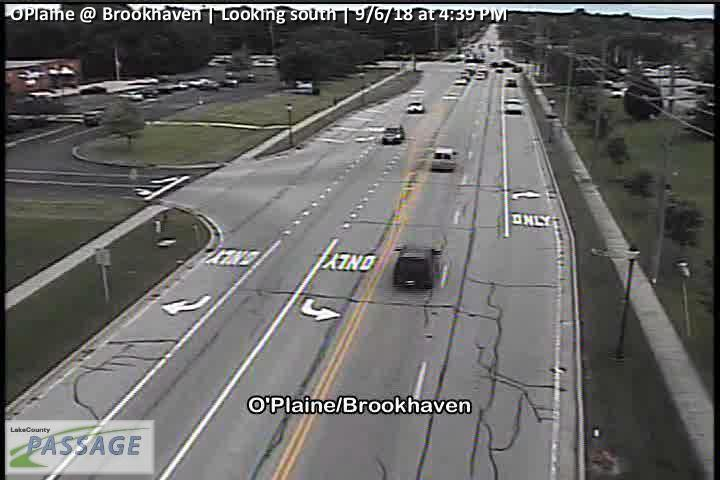SUV: (393, 242, 441, 290), (432, 147, 458, 170), (383, 124, 404, 145), (504, 99, 521, 115), (505, 77, 518, 89), (474, 73, 485, 79)
Sedan: (408, 102, 422, 113), (453, 78, 466, 85)
